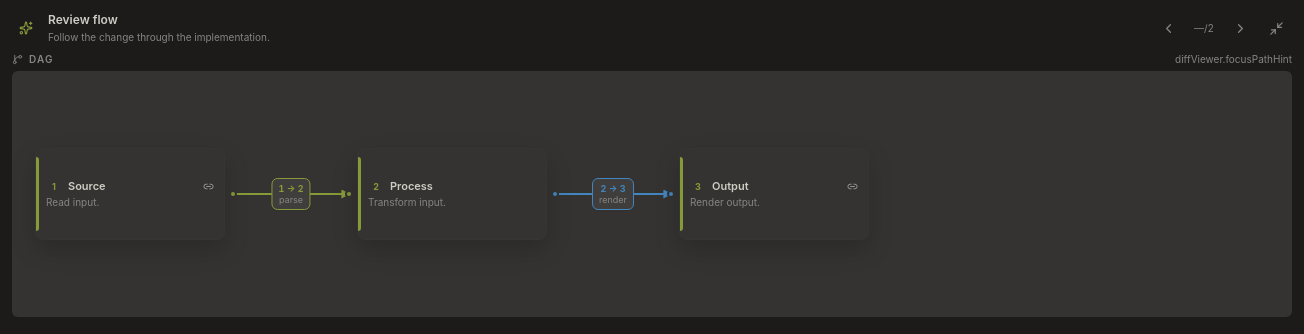
Test: ChangeWalkthroughPanel review navigation › moves through anchored changes from the full-screen controls
Click the button named "Next change". click: (1240, 28)
box: [1224,12,1256,44]
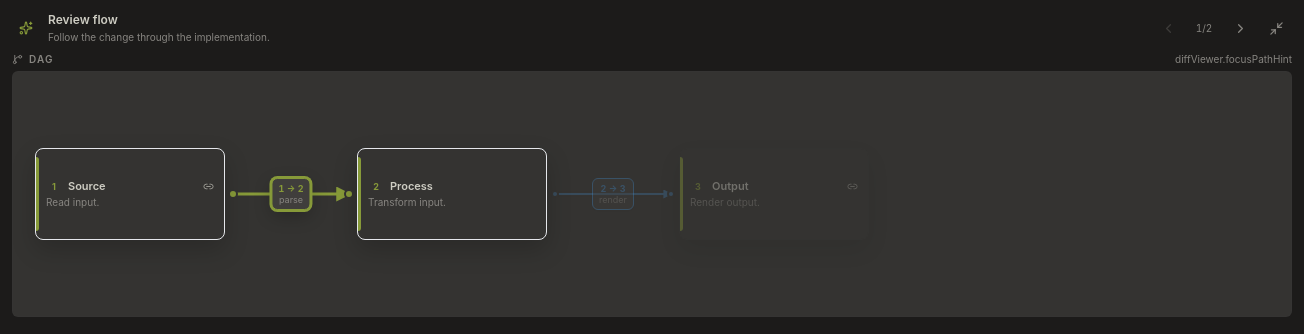
Click the button named "Next change". click: (1240, 28)
box: [1224,12,1256,44]
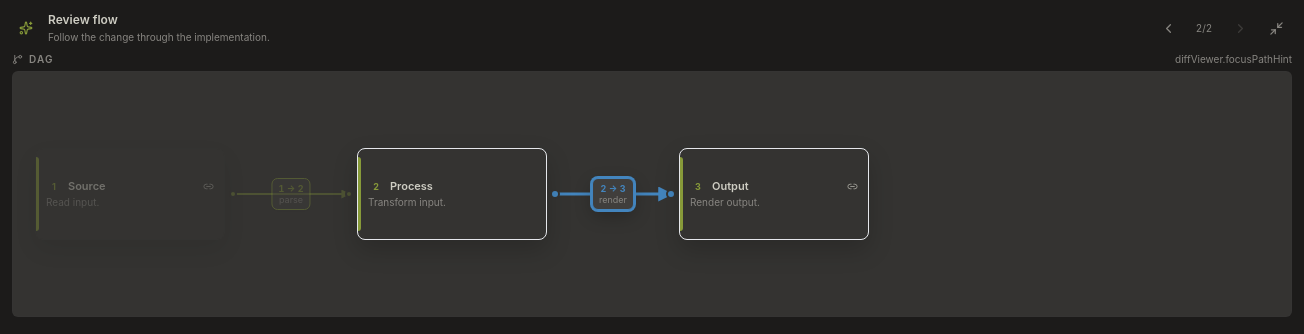
Expected: the text "2/2" is shown, [1196,22,1212,34]
